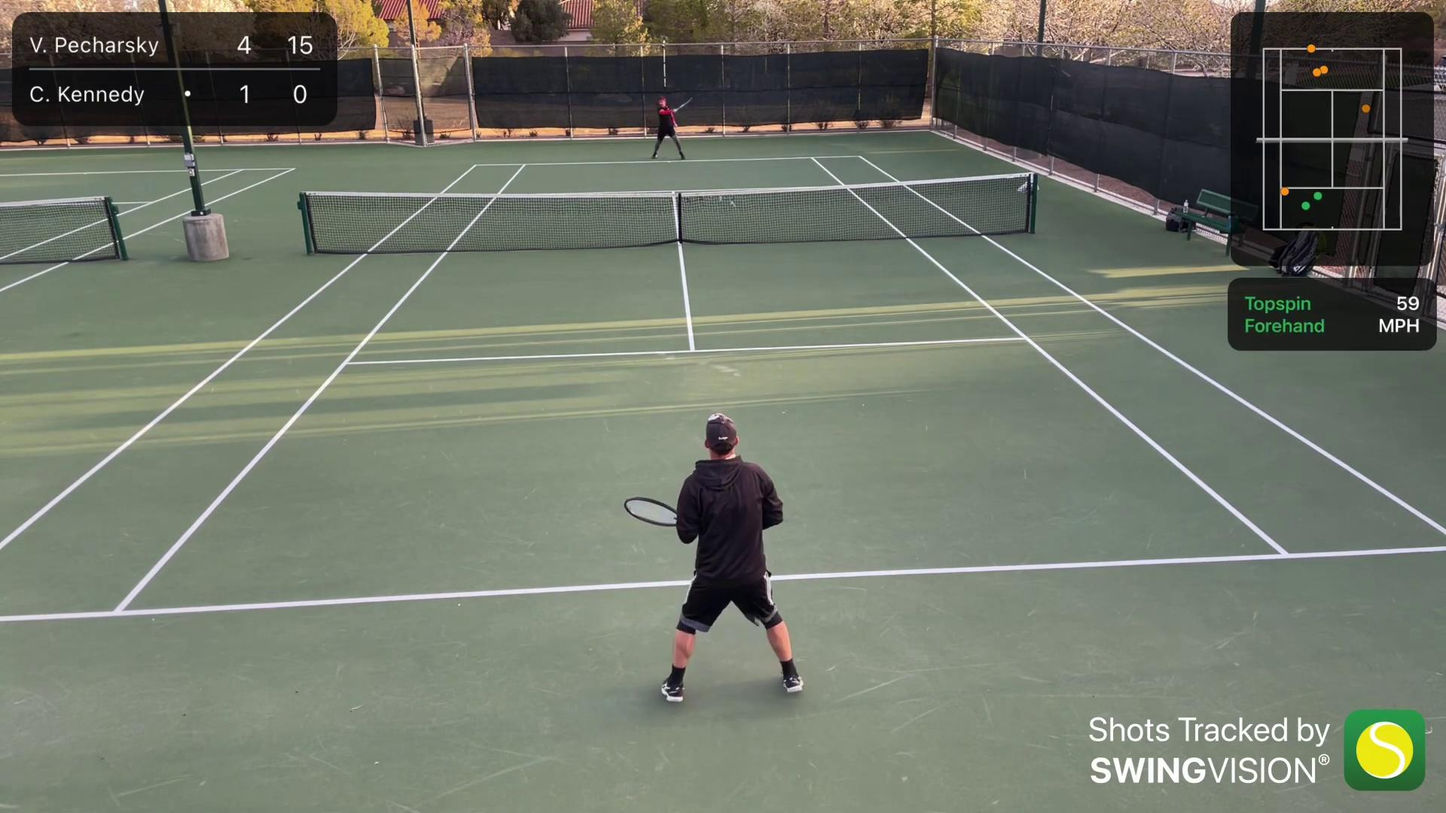ball: (583, 129, 590, 134)
